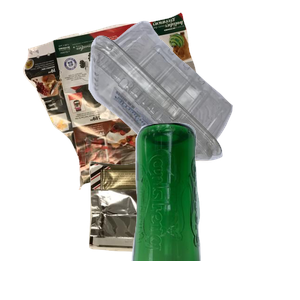glass: (129, 120, 300, 300)
paper: (20, 10, 231, 190)
plastic: (86, 18, 300, 171)
trash: (86, 158, 242, 300)
